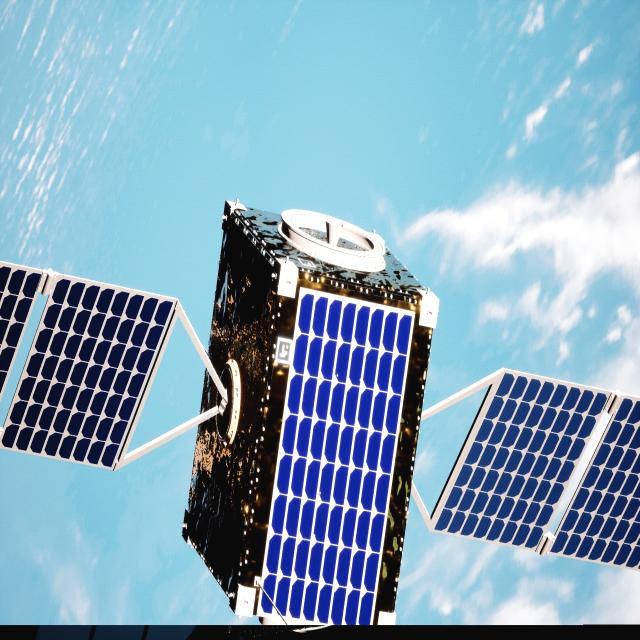satellite: (0, 202, 640, 627)
